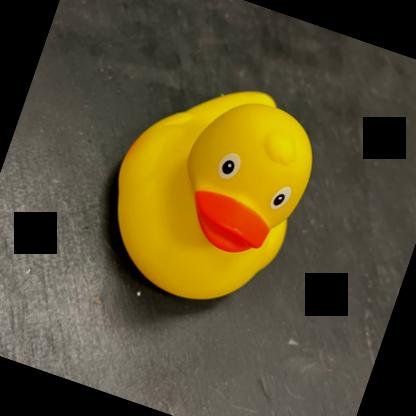duck: (78, 47, 338, 336)
